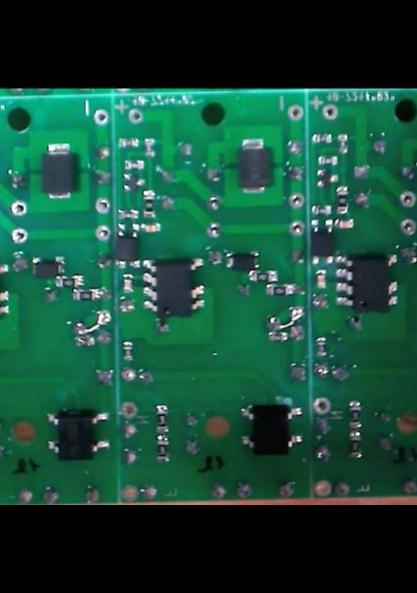chip-capacitor: (121, 272, 134, 293), (333, 217, 354, 230), (314, 268, 326, 289), (139, 222, 161, 232)
chip-resistor: (71, 287, 103, 302), (153, 402, 168, 433), (154, 434, 170, 463), (347, 399, 362, 429), (247, 269, 279, 283), (141, 189, 156, 218), (335, 185, 350, 214), (54, 274, 83, 288), (265, 283, 294, 297), (348, 430, 362, 459), (120, 338, 133, 361), (310, 131, 332, 144), (116, 208, 139, 220), (266, 331, 289, 343), (336, 133, 349, 154), (316, 154, 338, 166), (310, 203, 332, 215), (314, 335, 326, 357), (142, 137, 155, 157), (73, 336, 95, 347), (117, 136, 139, 147), (123, 159, 145, 170)
diode: (41, 141, 78, 200), (236, 137, 273, 193), (30, 255, 67, 279), (224, 250, 261, 270)
ic: (141, 256, 206, 319), (334, 252, 399, 314), (44, 407, 111, 462), (239, 401, 305, 456), (113, 221, 140, 268), (308, 217, 333, 265)
transistor: (314, 168, 339, 189), (121, 172, 146, 192)
